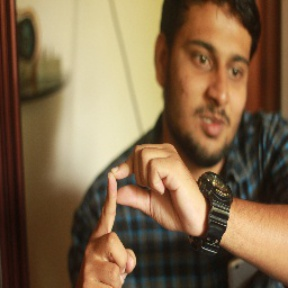P: (89, 139, 192, 269)
